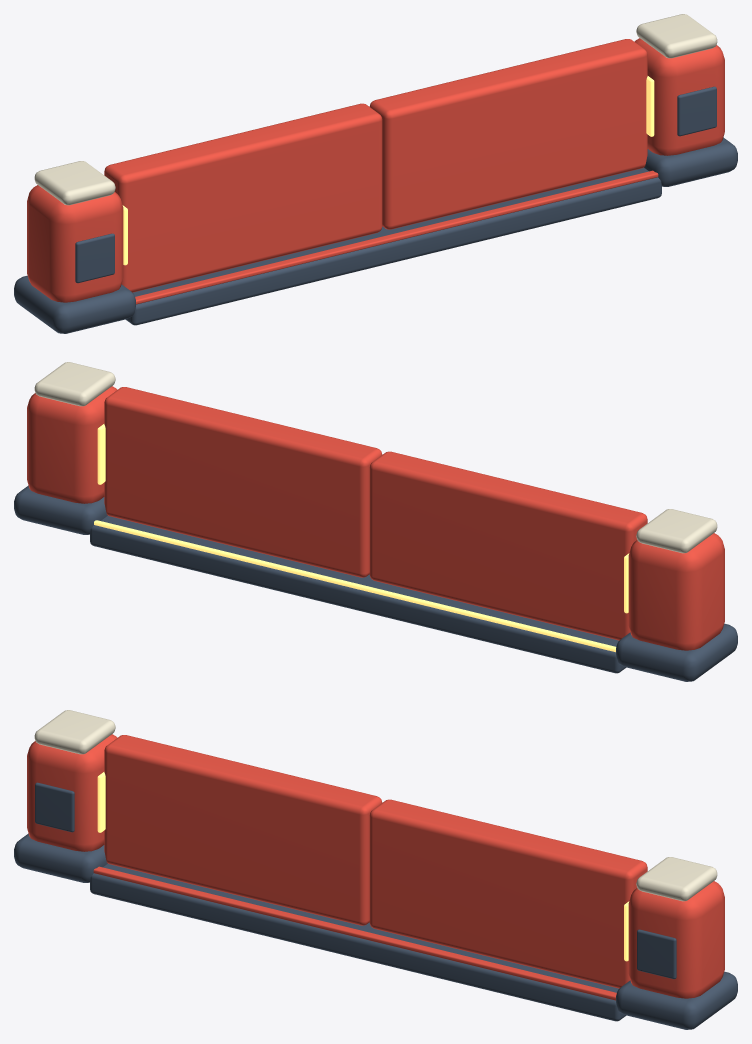
Rendered from AFJ_Gate_3Cells.fbx.
3 views of the same model, one above another, from view 1: azimuth 30°, elevation 25°; view 2: azimuth 150°, elevation 25°; view 3: azimuth 330°, elevation 25° (orthographic).
Parts seen in each view (by area): view 1: Door_Right_Mesh, Door_Left_Mesh, Threshold, Left_Pylon, Right_Pylon, Threshold_ColorStrip, Left_Foot, Right_Foot, Left_TopCap, Right_TopCap, Left_FrontPanel, Right_FrontPanel; view 2: Door_Right_Mesh, Door_Left_Mesh, Threshold, Left_Pylon, Right_Pylon, Left_Foot, Exit_Edge, Right_Foot, Left_TopCap, Right_TopCap; view 3: Door_Left_Mesh, Door_Right_Mesh, Threshold, Right_Pylon, Left_Pylon, Threshold_ColorStrip, Right_Foot, Left_Foot, Right_TopCap, Left_TopCap, Left_FrontPanel, Right_FrontPanel.
Boxes of the visible parts, x1,y1,x2,y2 form: Door_Right_Mesh: [369, 39, 647, 229]; Door_Left_Mesh: [104, 103, 382, 292]; Threshold: [125, 167, 661, 325]; Left_Pylon: [27, 185, 123, 302]; Right_Pylon: [634, 38, 724, 155]; Threshold_ColorStrip: [135, 170, 658, 304]; Left_Foot: [14, 275, 135, 333]; Right_Foot: [644, 137, 737, 186]; Left_TopCap: [34, 161, 115, 205]; Right_TopCap: [636, 14, 717, 58]; Left_FrontPanel: [75, 233, 114, 283]; Right_FrontPanel: [677, 86, 716, 136]; Door_Right_Mesh: [104, 387, 382, 577]; Door_Left_Mesh: [369, 451, 647, 640]; Threshold: [90, 515, 626, 673]; Left_Pylon: [628, 533, 724, 650]; Right_Pylon: [27, 386, 117, 503]; Left_Foot: [616, 623, 737, 681]; Exit_Edge: [94, 520, 616, 652]; Right_Foot: [14, 485, 107, 534]; Left_TopCap: [636, 509, 717, 553]; Right_TopCap: [34, 362, 115, 406]; Door_Left_Mesh: [104, 735, 382, 925]; Door_Right_Mesh: [369, 799, 647, 988]; Threshold: [90, 863, 626, 1021]; Right_Pylon: [628, 881, 724, 998]; Left_Pylon: [27, 734, 117, 851]; Threshold_ColorStrip: [93, 866, 616, 1000]; Right_Foot: [616, 971, 737, 1029]; Left_Foot: [14, 833, 107, 882]; Right_TopCap: [636, 857, 717, 901]; Left_TopCap: [34, 710, 115, 754]; Left_FrontPanel: [35, 782, 74, 832]; Right_FrontPanel: [637, 929, 676, 979].
Bounding box in the file's own units: 402 × 81 × 50.
